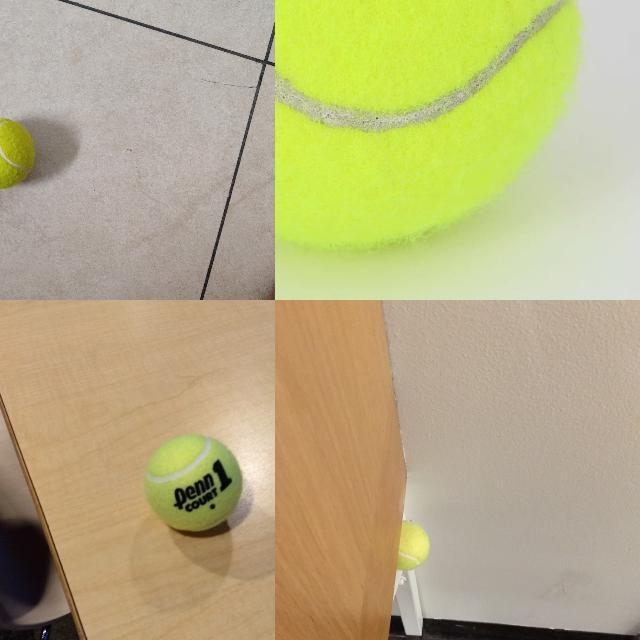tennis-ball: (275, 0, 584, 247), (142, 432, 244, 532), (0, 117, 35, 189), (402, 519, 430, 571)
